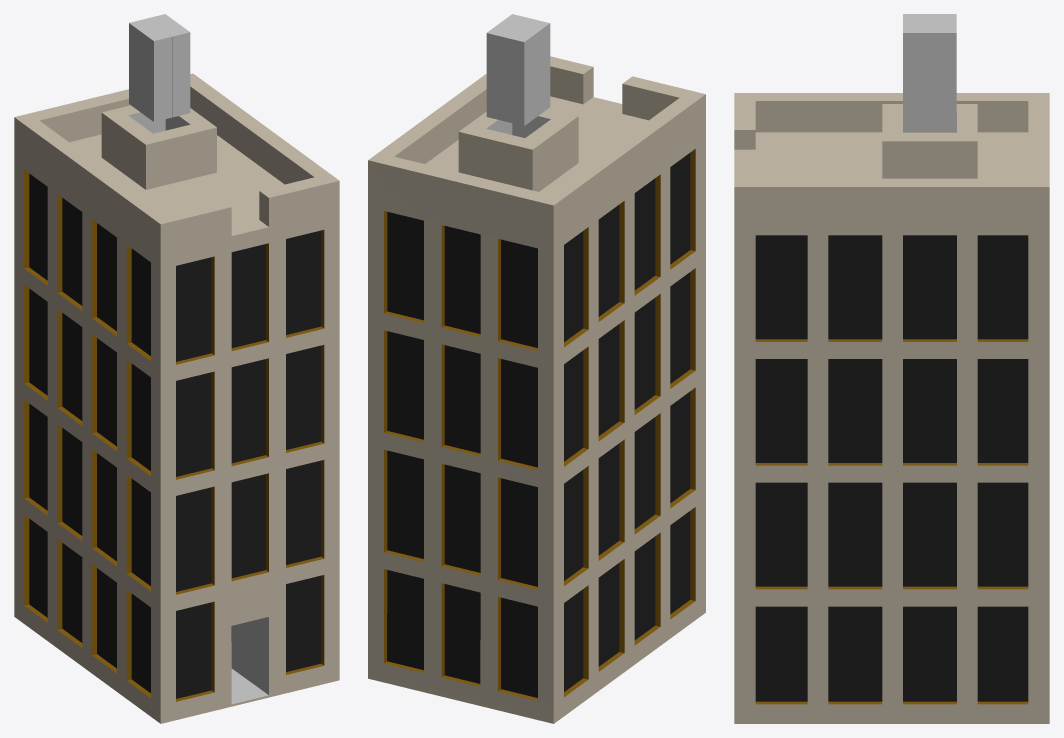
The model's file is SkyScraper.fbx.
The picture shows the model from 3 angles, left to right: view 1: azimuth 30°, elevation 25°; view 2: azimuth 150°, elevation 25°; view 3: azimuth 270°, elevation 25°; orthographic projection. The views are drawn at different scales.
Parts seen in each view (by area): view 1: building, Lift, DoorsLiftLeft, DoorsLift; view 2: building, Lift; view 3: building, Lift, DoorsLift.
Part boxes in pixels (bbox=[...]): building: bbox=[14, 73, 339, 723]; Lift: bbox=[129, 14, 187, 119]; DoorsLiftLeft: bbox=[151, 35, 171, 121]; DoorsLift: bbox=[170, 30, 190, 117]; building: bbox=[368, 56, 705, 723]; Lift: bbox=[486, 16, 547, 125]; building: bbox=[734, 93, 1049, 723]; Lift: bbox=[908, 14, 956, 119]; DoorsLift: bbox=[903, 23, 908, 119].
Bounding box in the file's own units: 350 × 1136 × 496.
